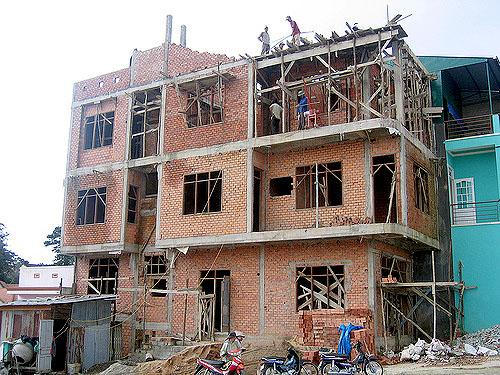Person: (216, 330, 248, 367), (285, 15, 301, 49), (268, 96, 283, 131), (296, 90, 308, 130), (257, 26, 270, 55)
